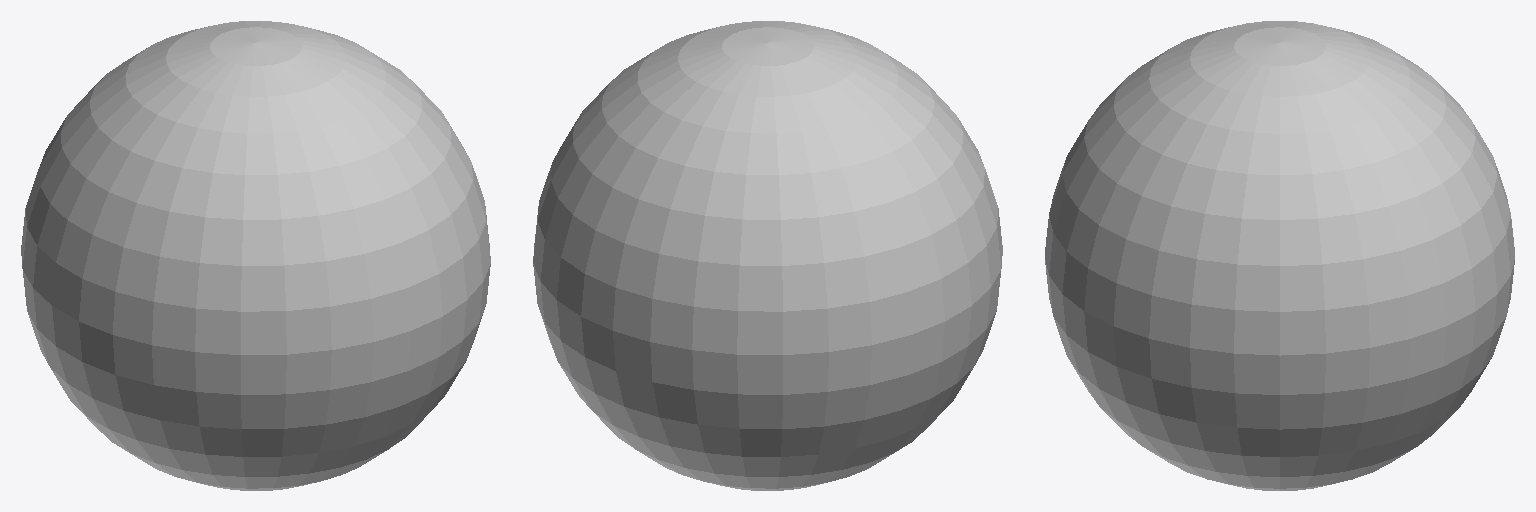
Rendered from Ball.obj.
3 renders of one model, left to right at view 1: azimuth 30°, elevation 25°; view 2: azimuth 150°, elevation 25°; view 3: azimuth 270°, elevation 25°, orthographic.
Visible parts, largest first — view 1: Sphere_Sphere.001; view 2: Sphere_Sphere.001; view 3: Sphere_Sphere.001.
Boxes of the visible parts, x1=… form: Sphere_Sphere.001: x1=21, y1=21, x2=490, y2=490; Sphere_Sphere.001: x1=533, y1=21, x2=1002, y2=490; Sphere_Sphere.001: x1=1045, y1=21, x2=1514, y2=490.
Size of the model in its own units: 0.1753 by 0.1753 by 0.1753.